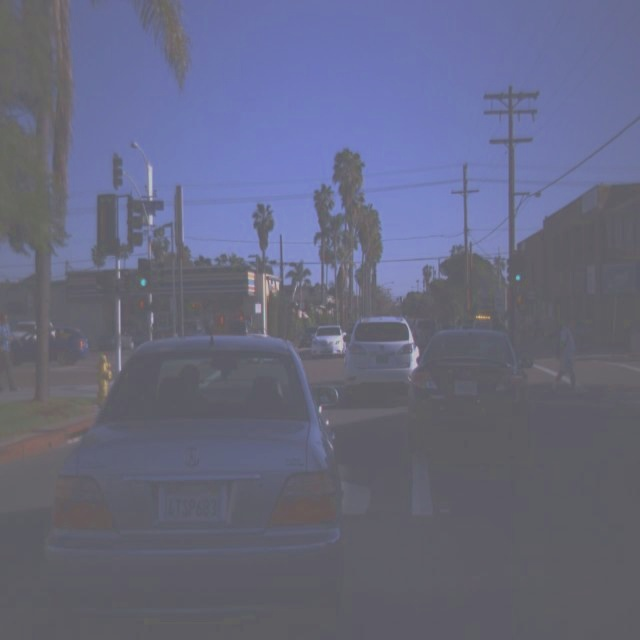go: (137, 261, 149, 288), (513, 262, 523, 282)
go traffic light: (137, 261, 149, 288), (513, 262, 523, 282)
